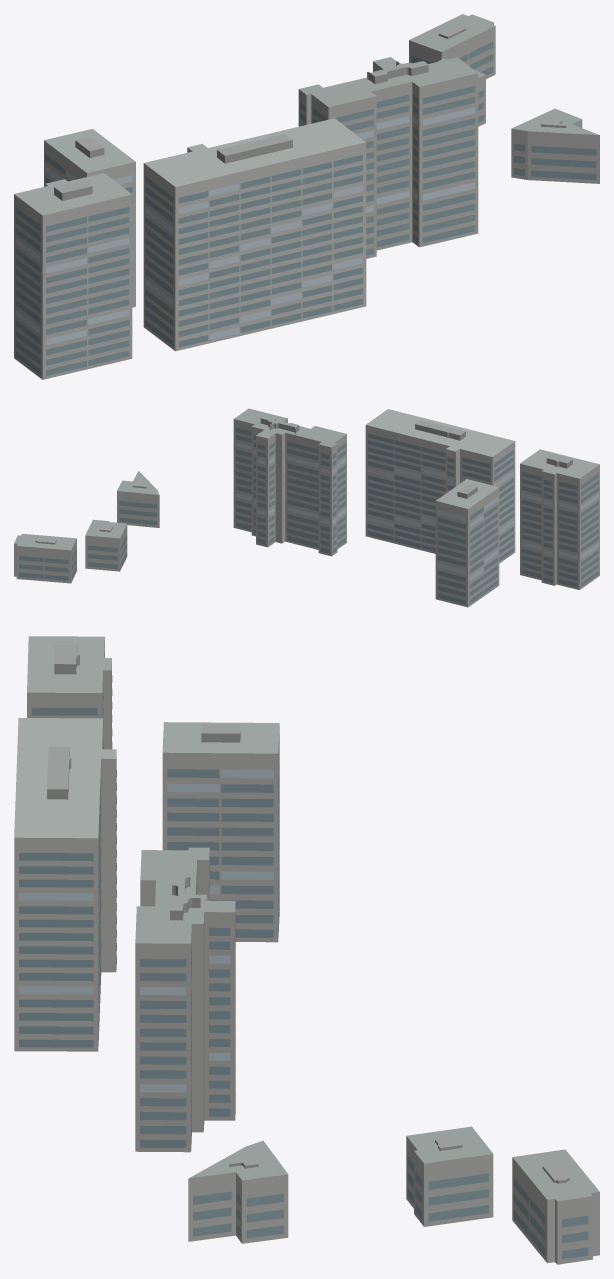
File: apt-a12185602.glb
3 views of the same model, one above another, from view 1: azimuth 30°, elevation 25°; view 2: azimuth 150°, elevation 25°; view 3: azimuth 270°, elevation 25° (orthographic). The views are drawn at different scales.
Visible parts, largest first — view 1: apt-a12185602; view 2: apt-a12185602; view 3: apt-a12185602.
Part boxes in pixels (x1=…): apt-a12185602: x1=14, y1=14, x2=599, y2=379; apt-a12185602: x1=14, y1=408, x2=599, y2=607; apt-a12185602: x1=14, y1=636, x2=599, y2=1264.
Bounding box in the file's own units: 171 × 43 × 102.
